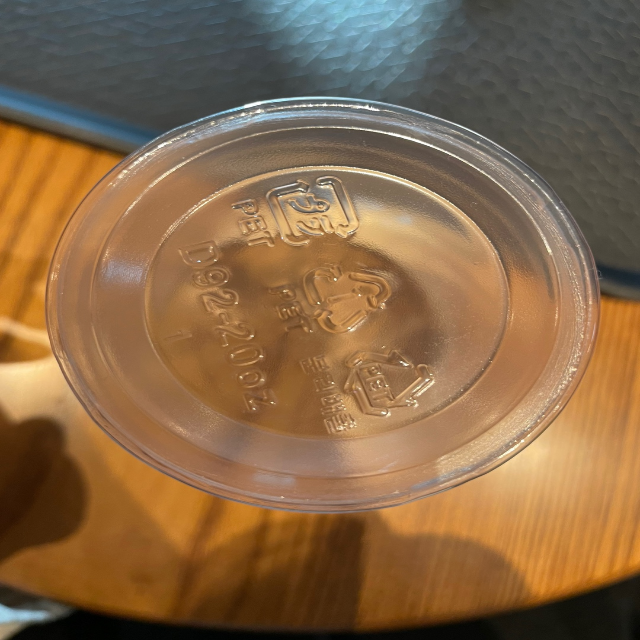pet: (294, 344, 434, 436), (226, 168, 366, 253), (264, 260, 408, 340)
